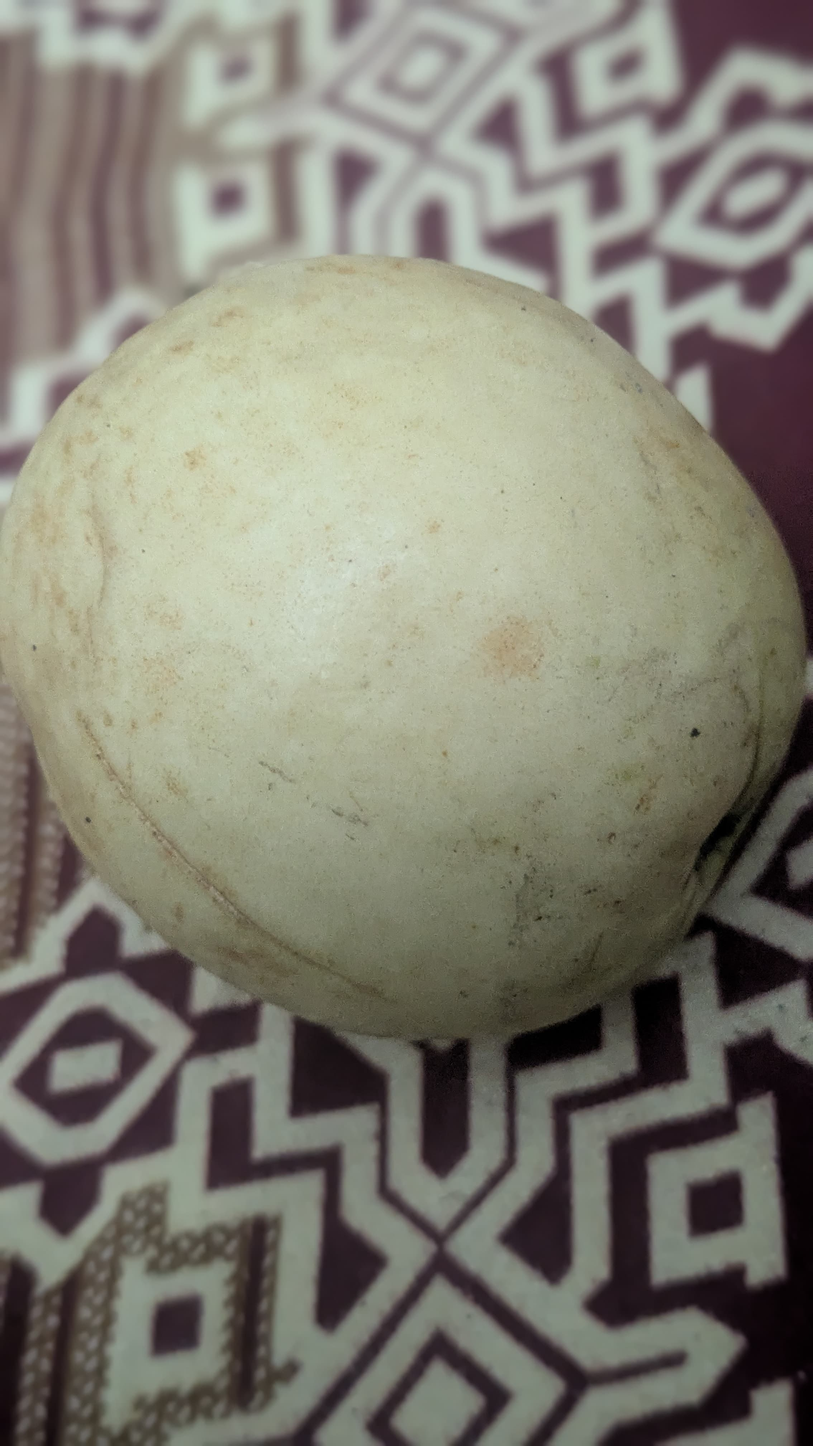guava: (72, 204, 674, 1287)
